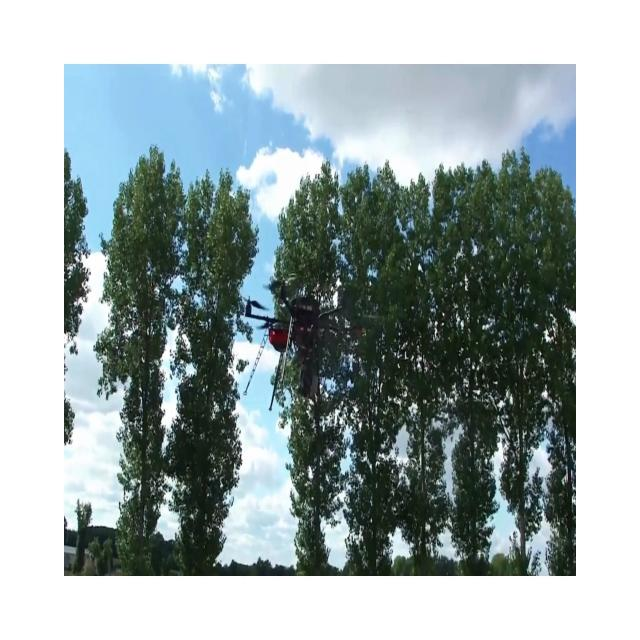drone: (242, 273, 384, 411)
